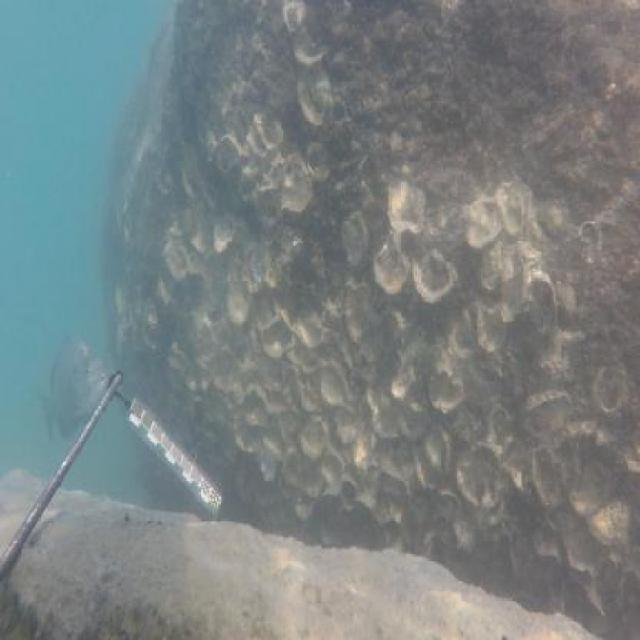acanthopagrus_palmaris: (38, 331, 108, 438)
